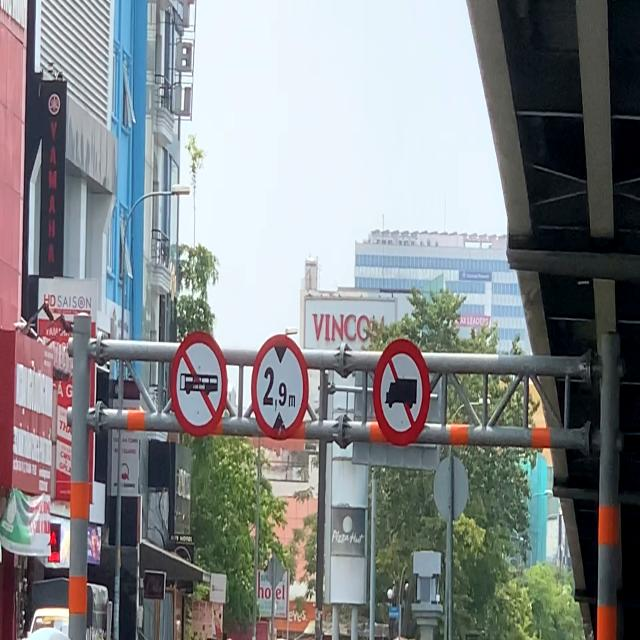P.106a: (373, 338, 431, 448)
P.117: (251, 334, 309, 442)
